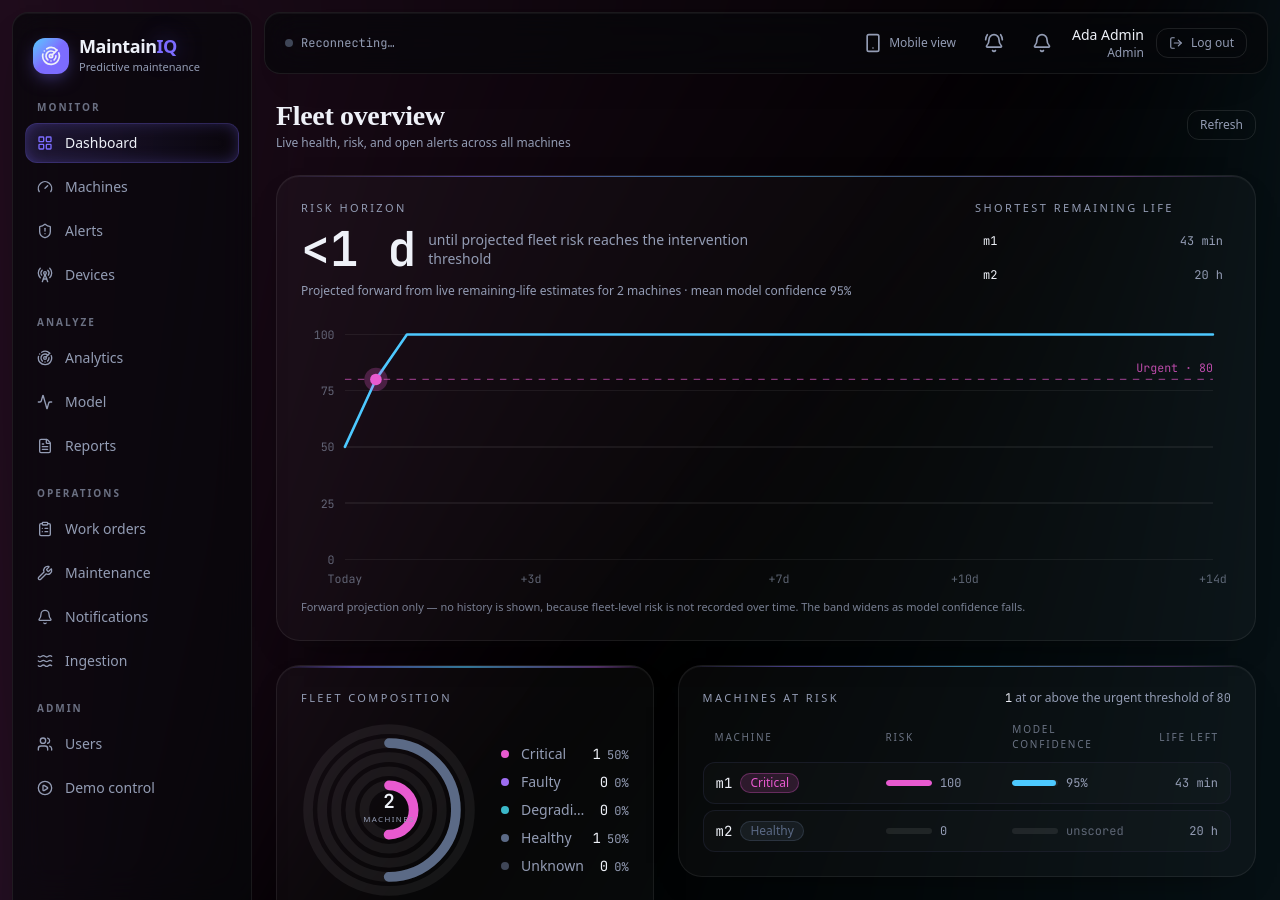
Scenario: App › lets a admin open Work orders from the nav
The width and height of the screenshot is (1280, 900).
Click the link "Work orders" at (92, 528), box top-left (37, 518), bottom-right (146, 538)
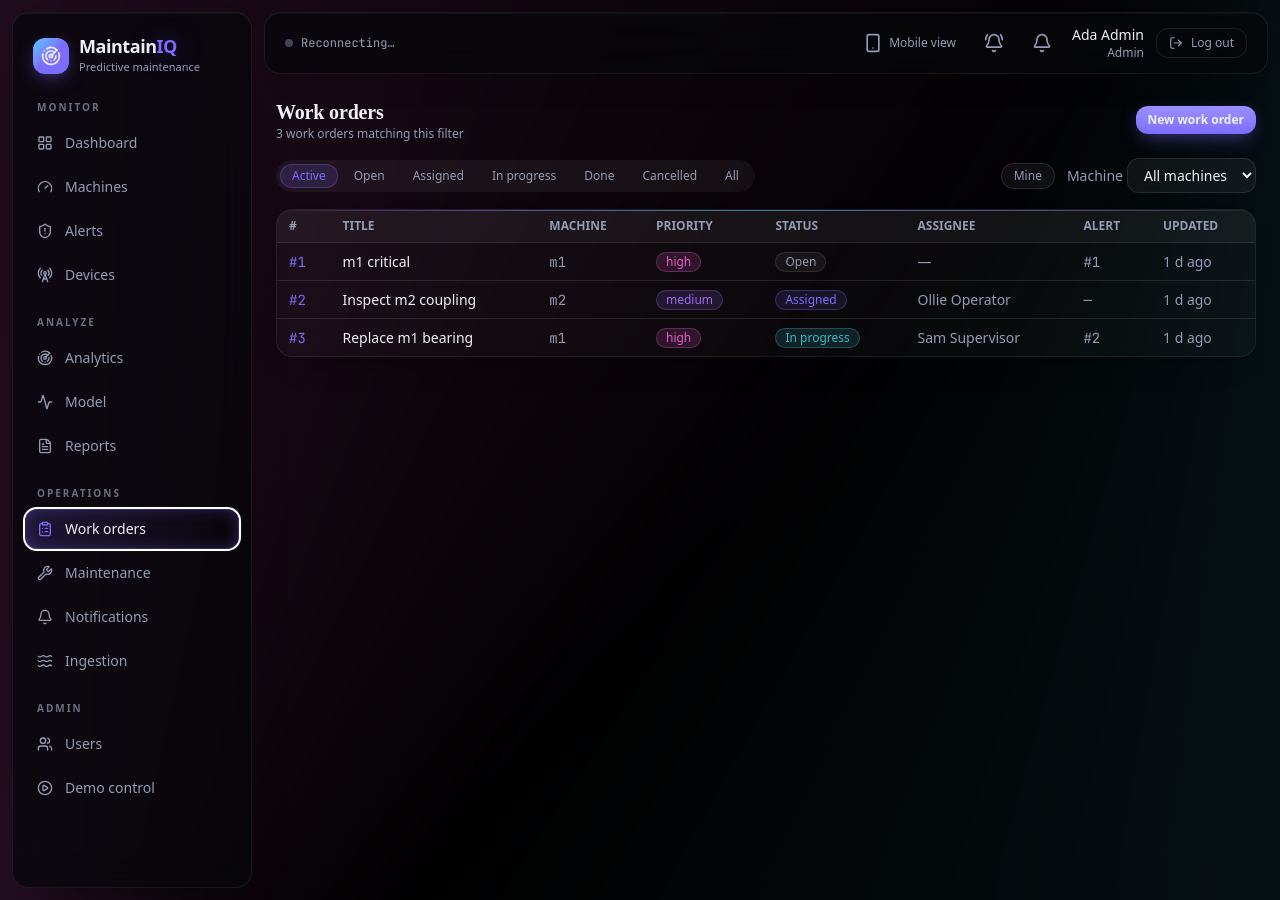
Check: the heading "Work orders" is shown, box top-left (276, 101), bottom-right (384, 123)
Check: the table named "work orders" is shown, box top-left (277, 210), bottom-right (1255, 356)
